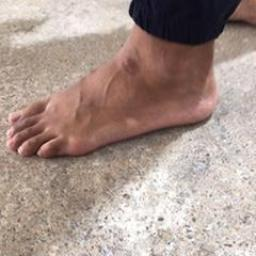Lateral View -Left Foot-: (4, 28, 230, 170)
